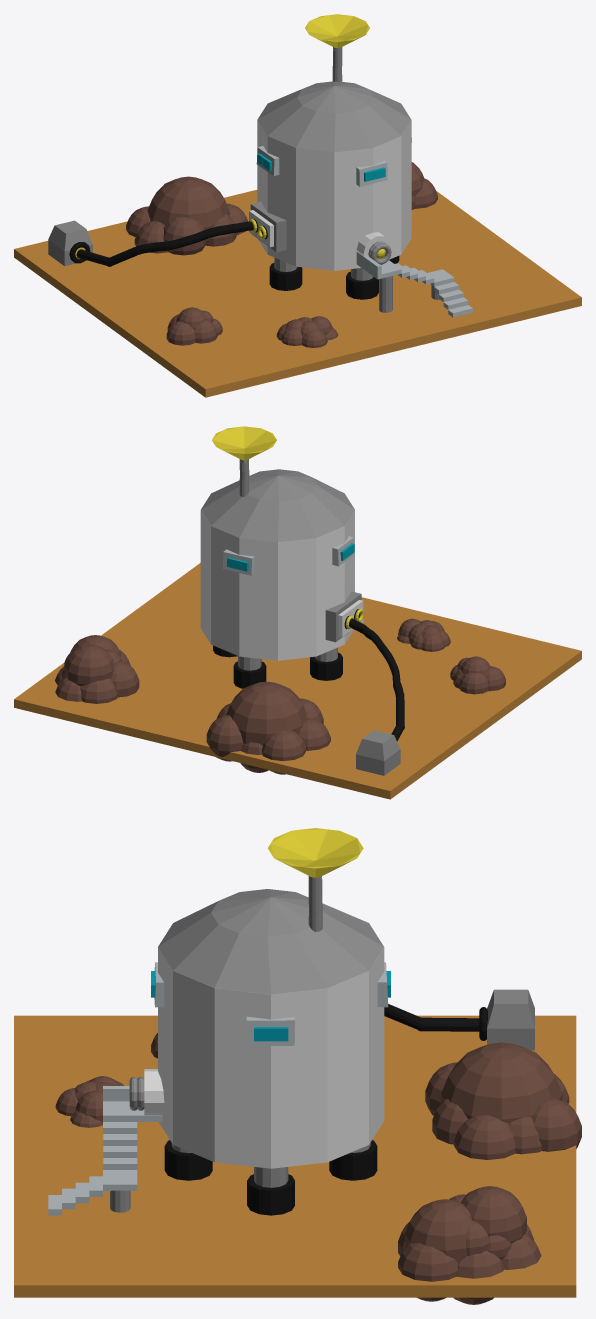
3 views of the same model, one above another, from view 1: azimuth 30°, elevation 25°; view 2: azimuth 150°, elevation 25°; view 3: azimuth 270°, elevation 25° (orthographic). The views are drawn at different scales.
Parts seen in each view (by area): view 1: node_MeshObject743398400-PolyPaper21, node_MeshObject2134588416-PolyPaper20; view 2: node_MeshObject743398400-PolyPaper21, node_MeshObject2134588416-PolyPaper20; view 3: node_MeshObject743398400-PolyPaper21, node_MeshObject2134588416-PolyPaper20.
Part boxes in pixels (x1,y1,x2,y2): node_MeshObject743398400-PolyPaper21: [14, 14, 581, 397]; node_MeshObject2134588416-PolyPaper20: [126, 203, 248, 255]; node_MeshObject743398400-PolyPaper21: [14, 426, 581, 799]; node_MeshObject2134588416-PolyPaper20: [206, 698, 330, 774]; node_MeshObject743398400-PolyPaper21: [14, 828, 576, 1304]; node_MeshObject2134588416-PolyPaper20: [425, 1062, 581, 1159].
Bounding box in the file's own units: 0.93 × 0.5999 × 0.8284.
